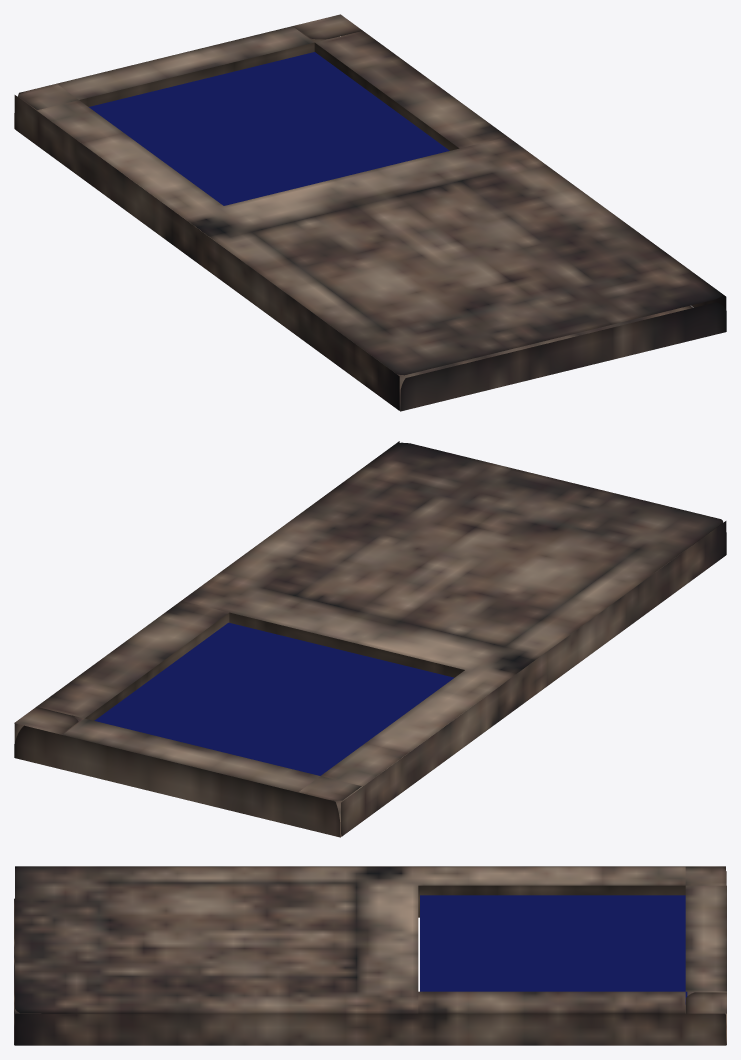
The model's file is SM_EC_House_Door_2.fbx.
3 renders of one model, top to bottom at view 1: azimuth 30°, elevation 25°; view 2: azimuth 150°, elevation 25°; view 3: azimuth 270°, elevation 25°, orthographic. The views are drawn at different scales.
Parts seen in each view (by area): view 1: SM_EC_House_Door_2, SM_EC_House_Door_Glass_0; view 2: SM_EC_House_Door_2, SM_EC_House_Door_Glass_0; view 3: SM_EC_House_Door_2, SM_EC_House_Door_Glass_0.
Part boxes in pixels (x1,y1,x2,y2): SM_EC_House_Door_2: [14, 14, 726, 411]; SM_EC_House_Door_Glass_0: [89, 52, 449, 205]; SM_EC_House_Door_2: [14, 441, 726, 837]; SM_EC_House_Door_Glass_0: [94, 622, 454, 775]; SM_EC_House_Door_2: [14, 866, 726, 1045]; SM_EC_House_Door_Glass_0: [420, 895, 687, 1004].
Size of the model in its own units: 0.984 by 2.02 by 0.1.
